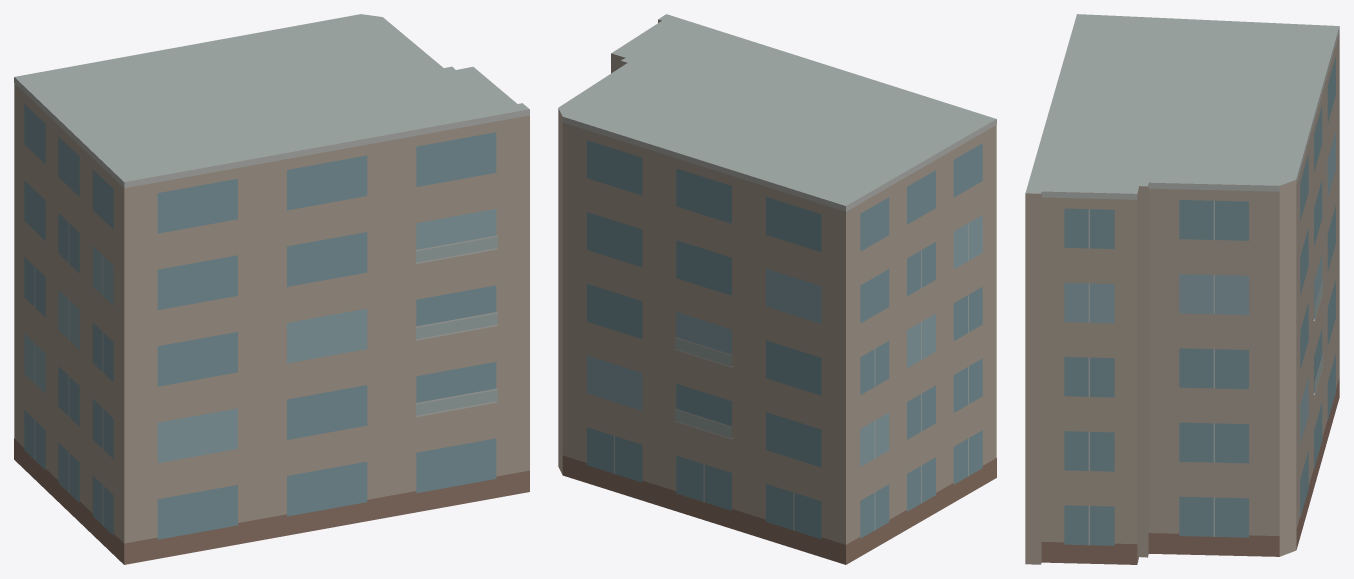
The model's file is survey-upis-32745216.glb.
The picture shows the model from 3 angles, left to right: view 1: azimuth 30°, elevation 25°; view 2: azimuth 150°, elevation 25°; view 3: azimuth 270°, elevation 25°; orthographic projection. The views are drawn at different scales.
Visible parts, largest first — view 1: survey-upis-32745216.tmp; view 2: survey-upis-32745216.tmp; view 3: survey-upis-32745216.tmp.
Part boxes in pixels (x1,y1,x2,y2): survey-upis-32745216.tmp: (14, 14, 529, 564); survey-upis-32745216.tmp: (558, 14, 996, 564); survey-upis-32745216.tmp: (1025, 14, 1339, 564).
Bounding box in the file's own units: 15.87 × 15.25 × 11.72.
